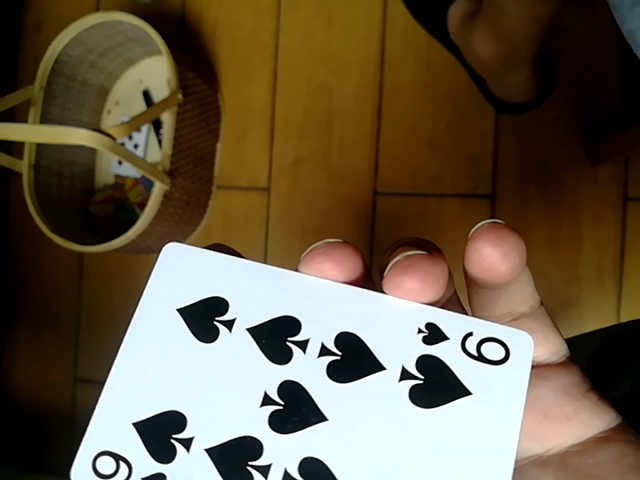ht 9: (68, 239, 538, 478)
